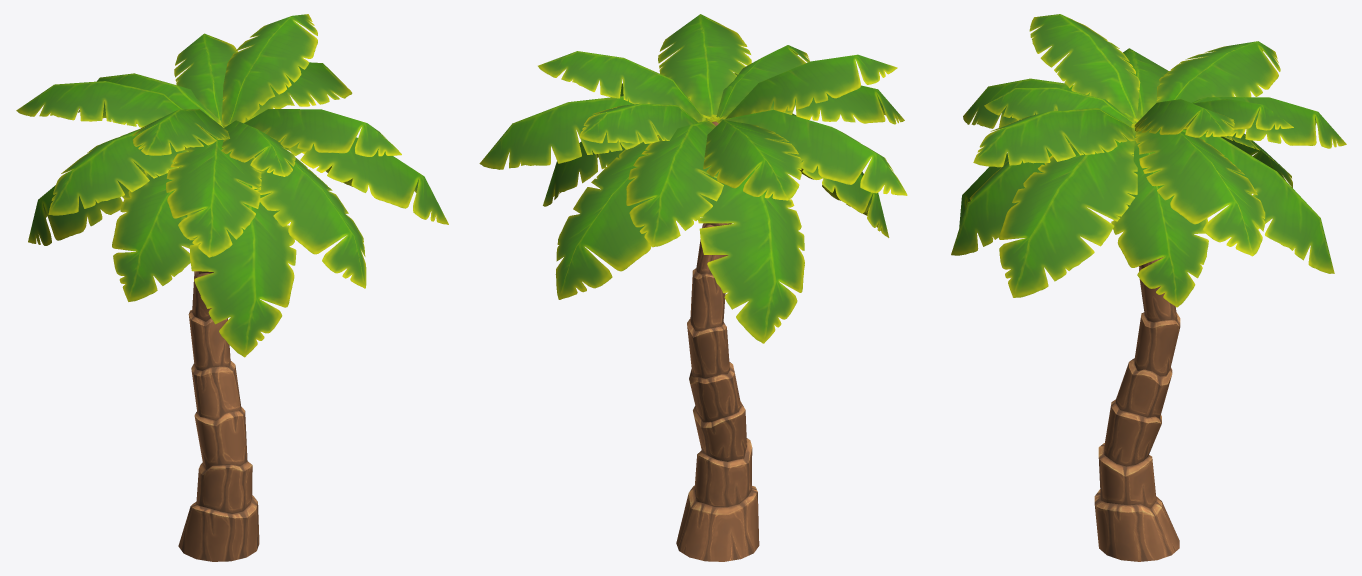
Rendered from M_Tree.fbx.
The picture shows the model from 3 angles, left to right: view 1: azimuth 30°, elevation 25°; view 2: azimuth 150°, elevation 25°; view 3: azimuth 270°, elevation 25°; orthographic projection. The views are drawn at different scales.
Parts seen in each view (by area): view 1: polySurface19; view 2: polySurface19; view 3: polySurface19.
Part boxes in pixels (x1,y1,x2,y2): polySurface19: (16,14,448,561); polySurface19: (479,14,907,561); polySurface19: (951,14,1346,561).
Bounding box in the file's own units: 25.1 × 31.09 × 23.12.
